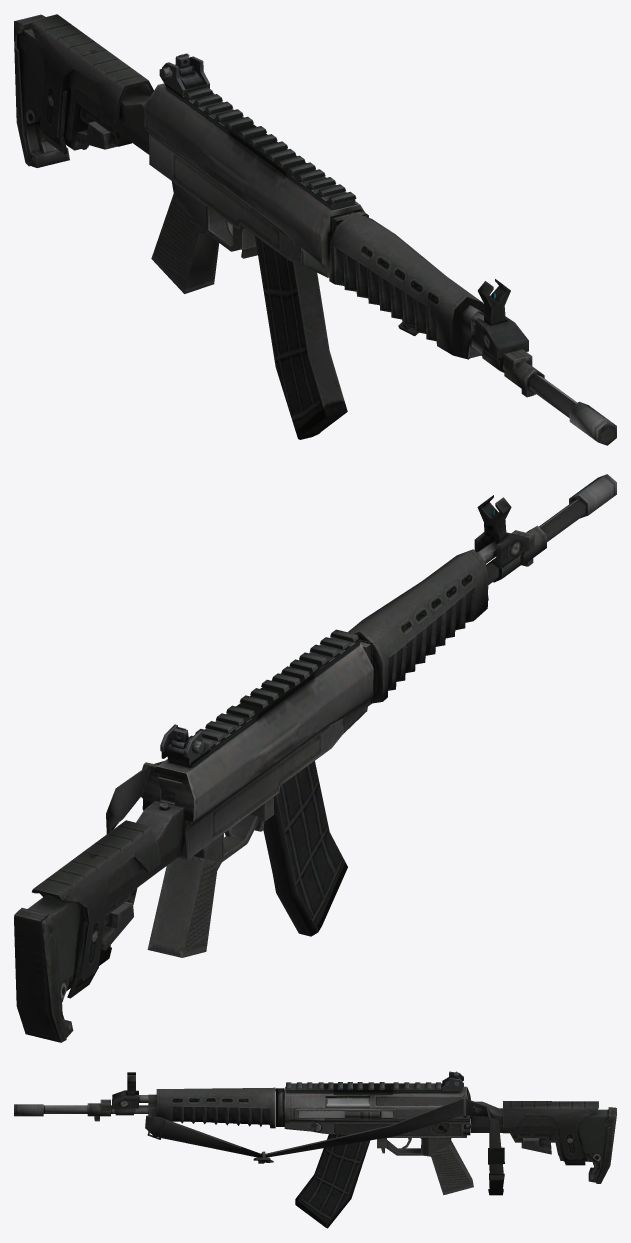
The model's file is Assault_Rifle_QBZ03_qt_lod0_Body_LOD_(000576).glb.
The picture shows the model from 3 angles, top to bottom: view 1: azimuth 30°, elevation 25°; view 2: azimuth 150°, elevation 25°; view 3: azimuth 270°, elevation 25°; orthographic projection. The views are drawn at different scales.
Parts seen in each view (by area): view 1: QBZ03_qt_lod0; view 2: QBZ03_qt_lod0; view 3: QBZ03_qt_lod0.
Part boxes in pixels (x1,y1,x2,y2): QBZ03_qt_lod0: [14, 14, 616, 445]; QBZ03_qt_lod0: [14, 474, 616, 1042]; QBZ03_qt_lod0: [14, 1071, 616, 1228].
Size of the model in its own units: 0.1075 by 0.3089 by 1.09.
1 material, 1 textured.
